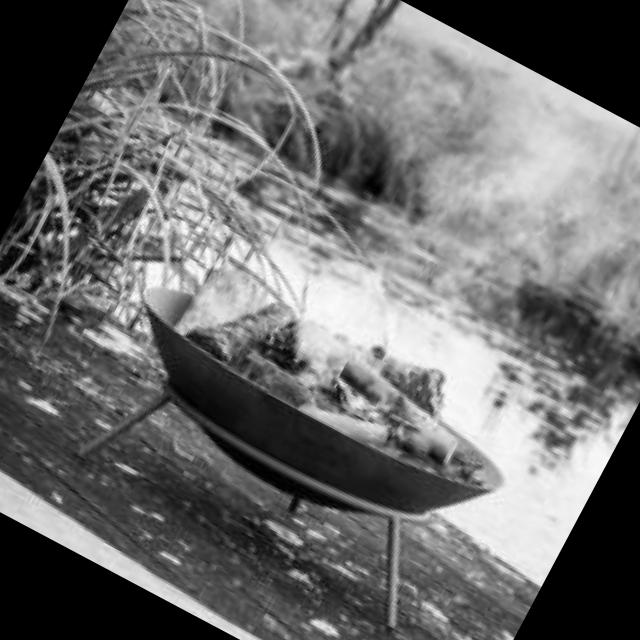fire: (313, 357, 417, 450)
smoke: (310, 29, 640, 459)
